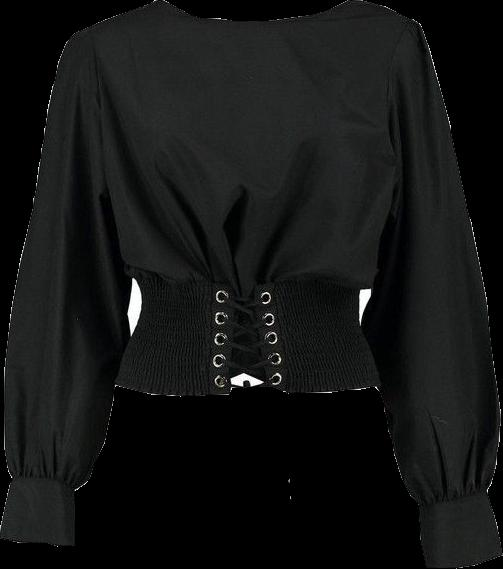Bodice: (89, 0, 410, 396)
Neckline: (128, 266, 367, 291), (157, 0, 352, 27)
Sleeve: (360, 19, 501, 567), (0, 26, 130, 545)
Sleeveline: (86, 24, 120, 224), (390, 18, 417, 198)
Waistline: (111, 377, 385, 397)
